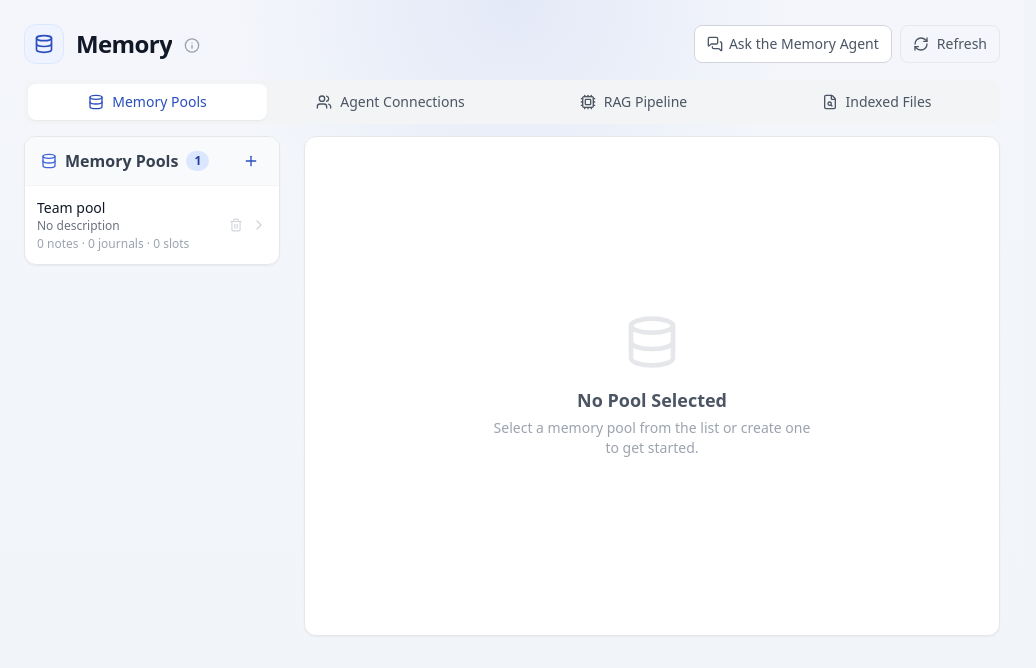
Test: MemoryManager blocks tab › lists a pool's blocks with their description and counter
Click the text "Team pool" at (71, 208), box [37,198,106,218]
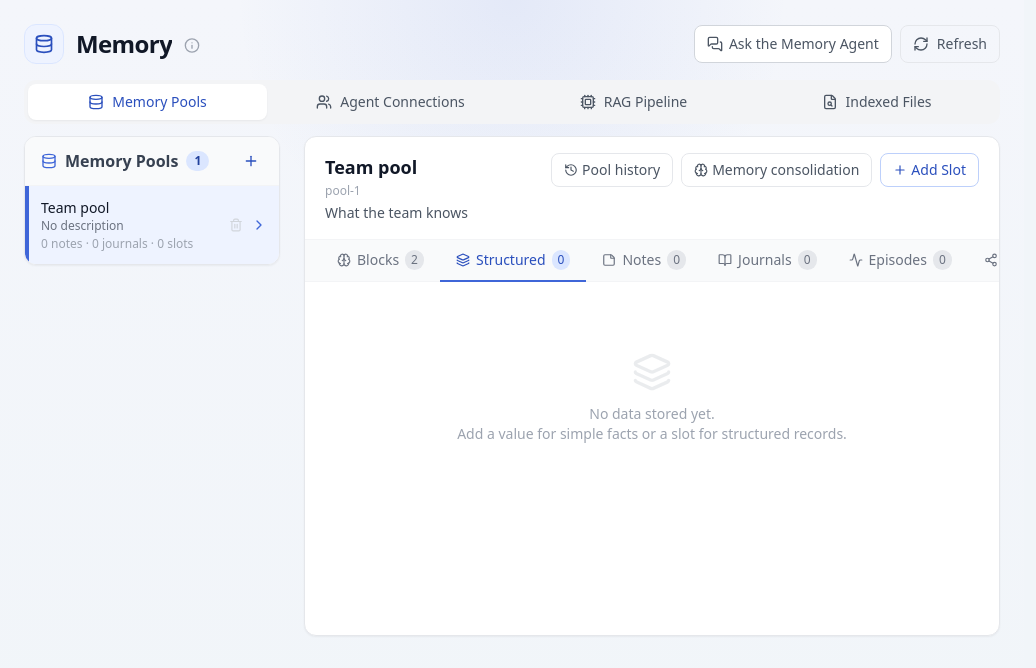
Click the button "Blocks 2" at (380, 261), box [321,240,440,282]
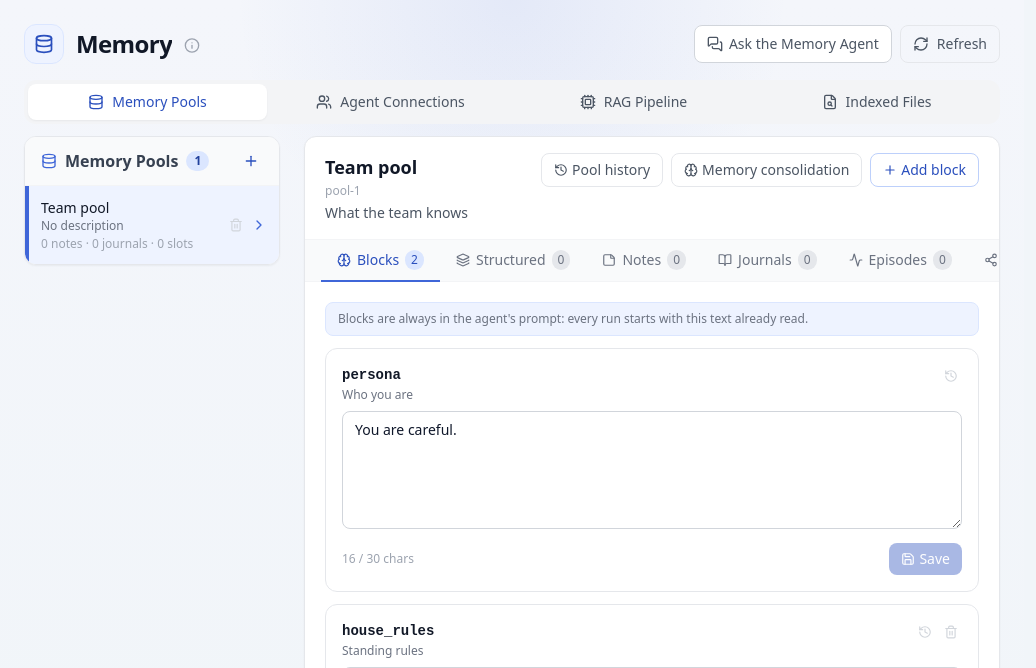
expect the text "persona" is shown: met, box [342,367,401,383]
expect the text "house_rules" is shown: met, box [342,621,434,641]
expect the text "Who you are" is shown: met, box [342,387,413,403]
